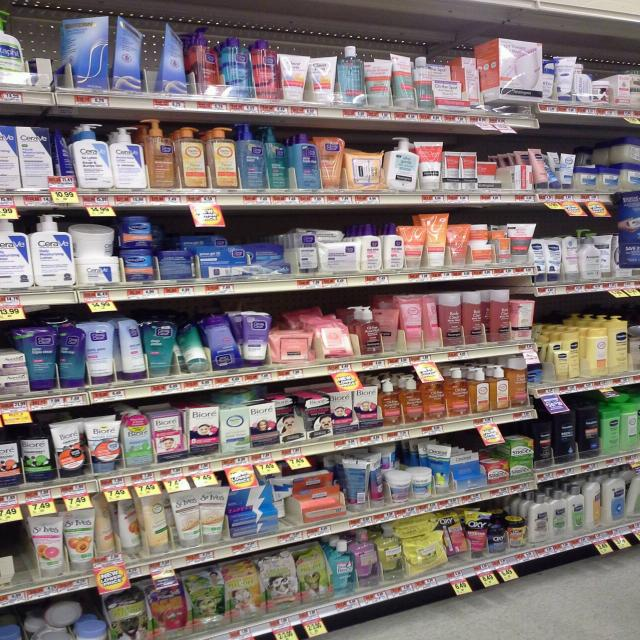empty: (25, 10, 76, 98), (1, 514, 38, 585)
